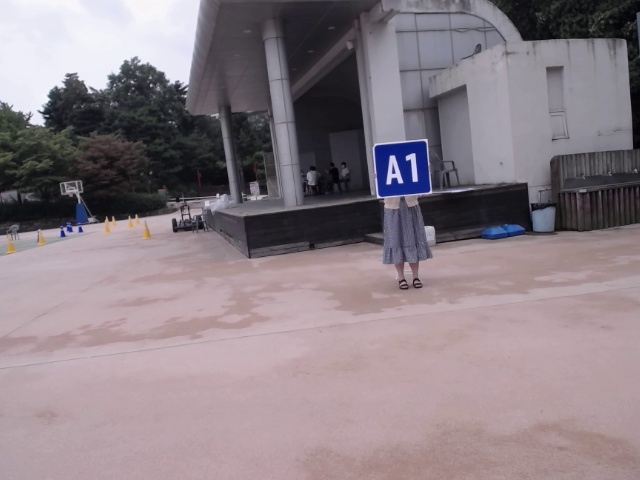delivery_a1: (372, 139, 432, 198)
